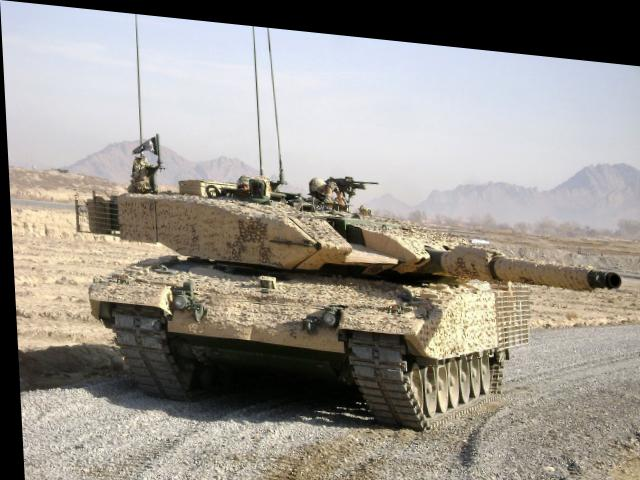other: (115, 136, 156, 191), (294, 159, 343, 202), (229, 158, 252, 202)
tank: (71, 122, 544, 447)
